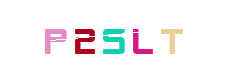2: (64, 0, 144, 80)
L: (78, 0, 158, 80)
P: (44, 0, 124, 80)
S: (74, 0, 154, 80)
T: (97, 0, 177, 80)
